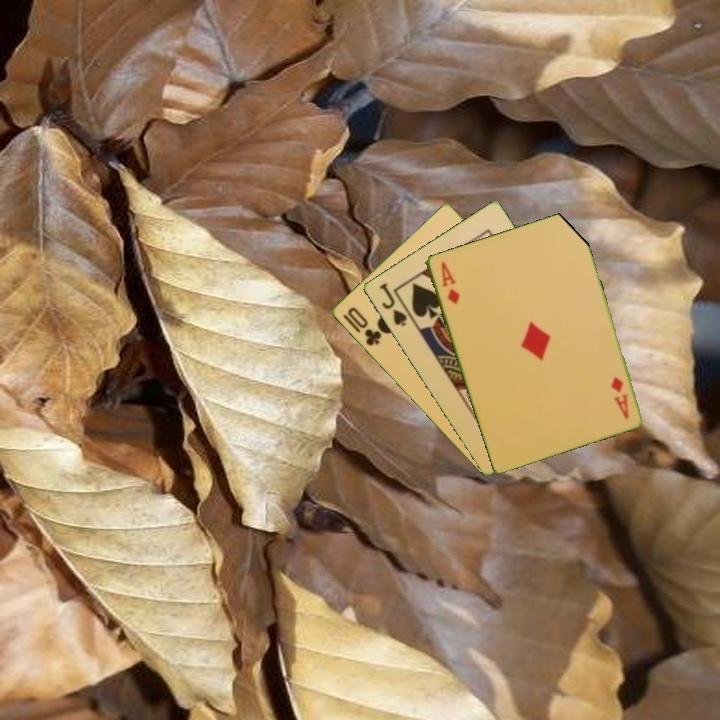10c: (343, 303, 384, 349)
Ad: (437, 258, 463, 307), (607, 373, 631, 421)
Js: (375, 279, 409, 329)
